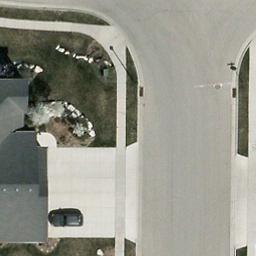car: (46, 208, 84, 227)
